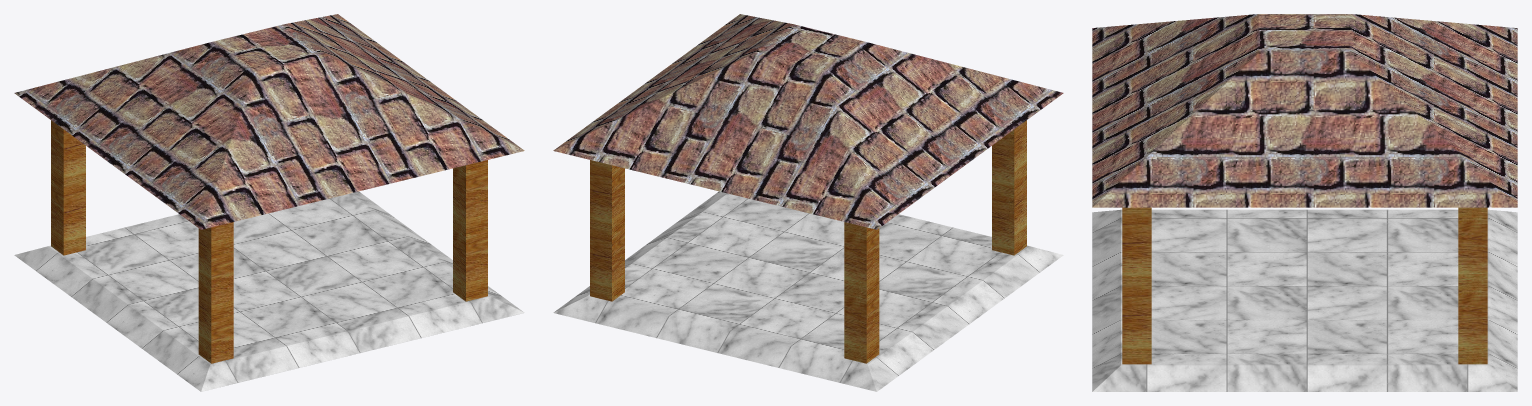
Rendered from Perk_House_Base.fbx.
The picture shows the model from 3 angles, left to right: view 1: azimuth 30°, elevation 25°; view 2: azimuth 150°, elevation 25°; view 3: azimuth 270°, elevation 25°; orthographic projection. The views are drawn at different scales.
Parts seen in each view (by area): view 1: Base; view 2: Base; view 3: Base.
Part boxes in pixels (x1,y1,x2,y2): Base: [14, 14, 524, 391]; Base: [553, 14, 1063, 391]; Base: [1092, 14, 1517, 391].
Size of the model in its own units: 200 by 139 by 200.
